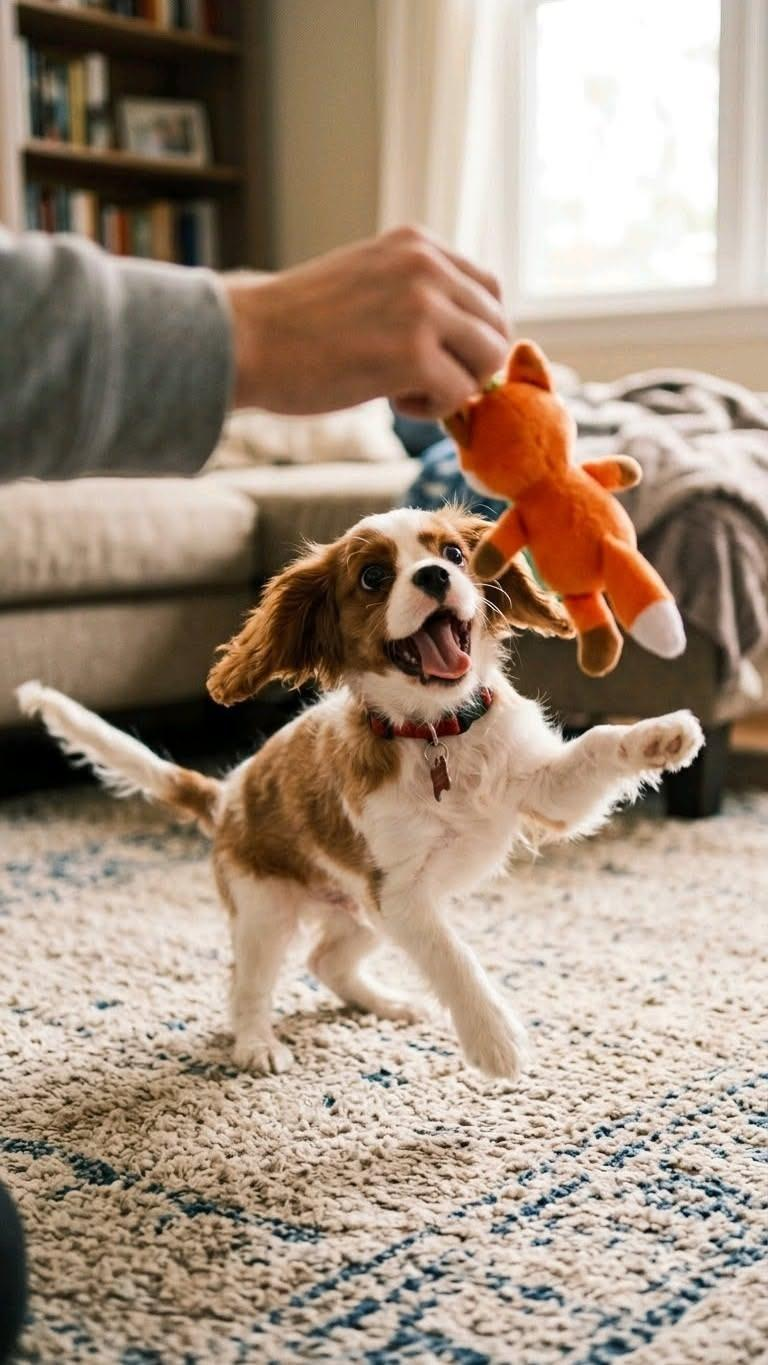non-dog: (0, 222, 513, 488)
puppy-dog: (16, 504, 707, 1084)
